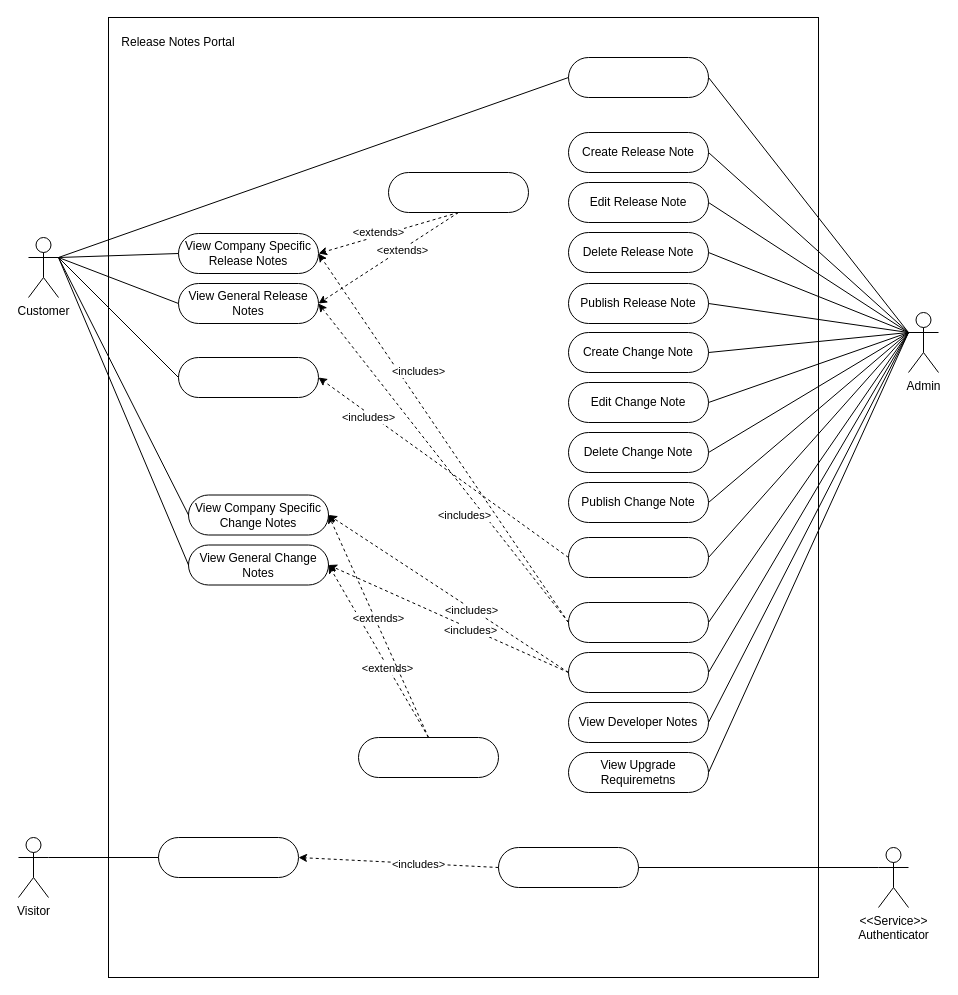
The diagram is 958 pixels wide and 995 high, and some of its shapes have lost their labels. The shapes that lost their labels are listed below. From the top down, each one's box as (x1, y1, x2, y2) in pixels, then its label:
(568, 56, 708, 98): Log out
(388, 172, 528, 212): Filter Release Notes
(178, 356, 318, 398): Export Company Specific Release Note
(568, 536, 708, 578): Export Release Note
(568, 602, 708, 642): View All Release Notes
(568, 652, 708, 692): View All Change Notes
(358, 736, 498, 778): Filter Change Notes
(158, 836, 298, 878): Log in
(498, 846, 638, 888): Authenticate User
